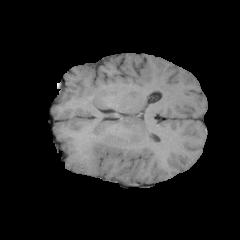glioma: (67, 107, 156, 174)
